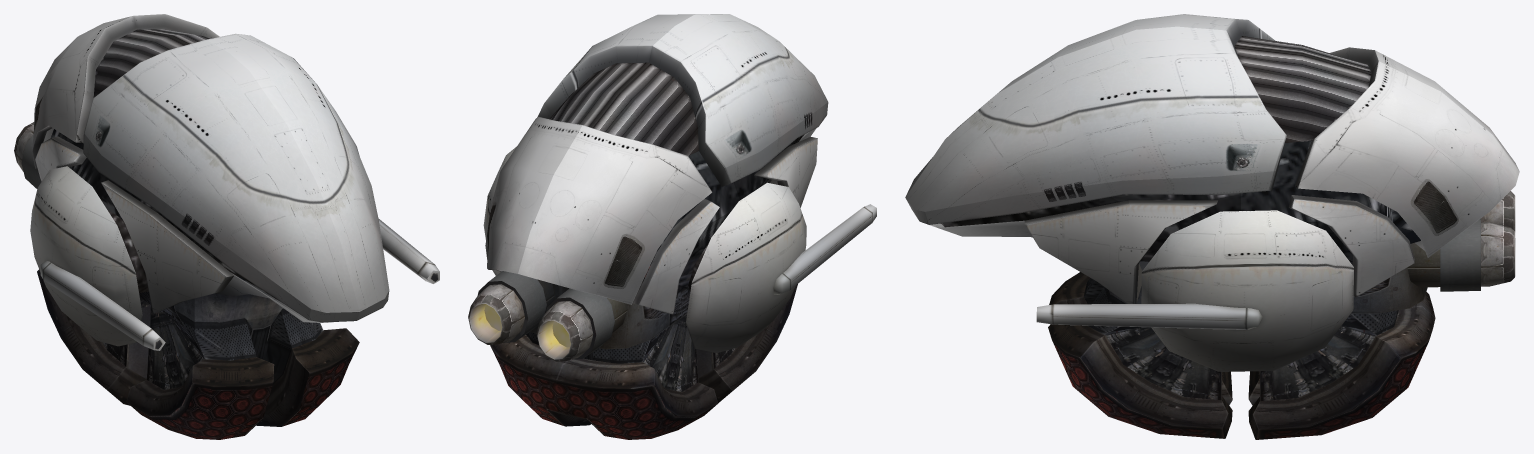
Rendered from ship.dae.
3 renders of one model, left to right at view 1: azimuth 30°, elevation 25°; view 2: azimuth 150°, elevation 25°; view 3: azimuth 270°, elevation 25°, orthographic. The views are drawn at different scales.
Visible parts, largest first — view 1: Ship; view 2: Ship; view 3: Ship.
Boxes of the visible parts, x1,y1,x2,y2 form: Ship: [14, 14, 439, 439]; Ship: [468, 14, 876, 439]; Ship: [905, 14, 1519, 439].
Size of the model in its own units: 6.31 by 7.38 by 10.48.
